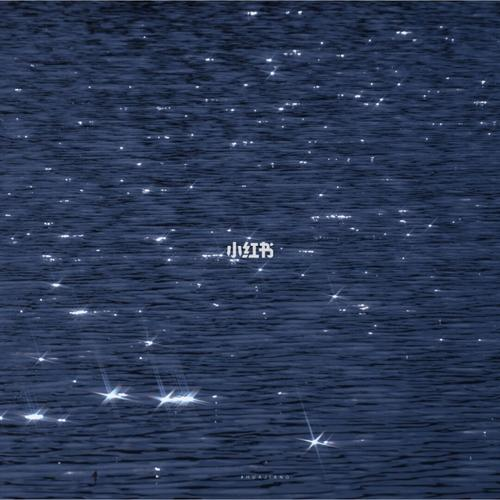sea_river: (0, 12, 488, 468)
